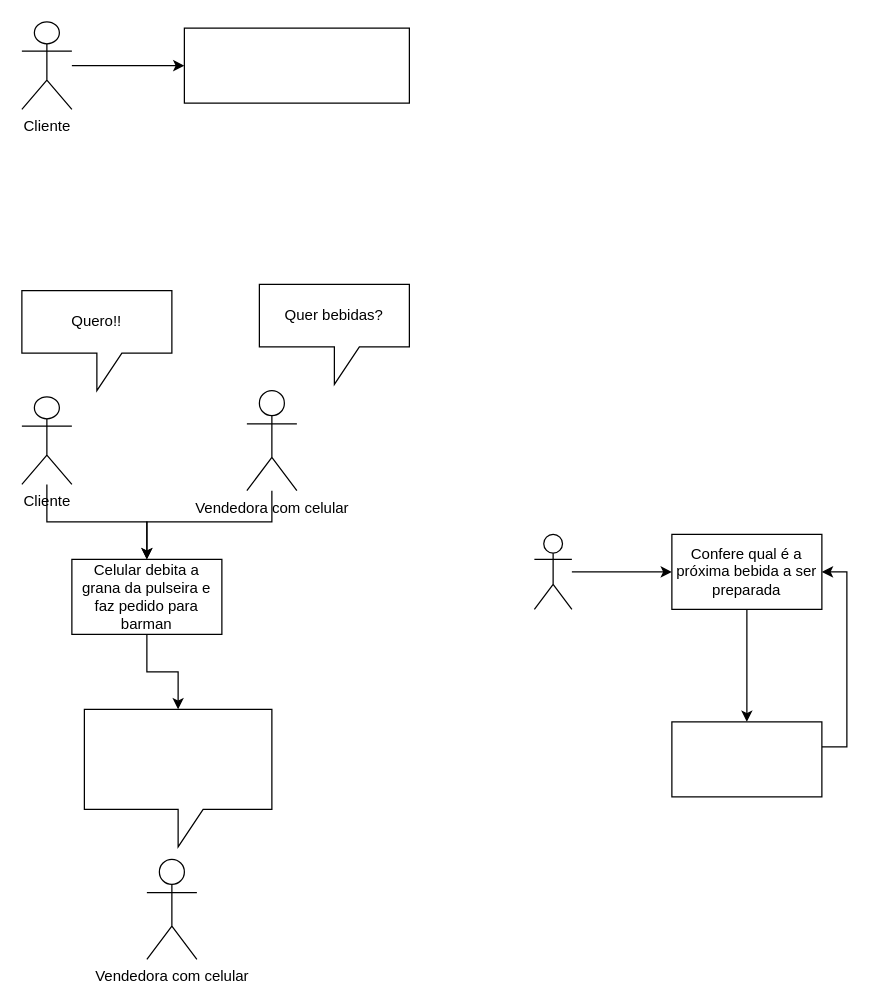
The diagram is 879 pixels wide and 1008 high, and some of its shapes have lost their labels. The centre of each missing label's shape, as x and y in pixels:
Barman: pixel 552 571
Entrou no bar, pegou uma pulseira e carregou com créditos: pixel 296 65
Ok. Vai para o bar 5. Sua bebida estará na cor laranja daqui 7 minutos: pixel 177 777
Prepara bebida do cliente e deixa no lugar: pixel 746 759
